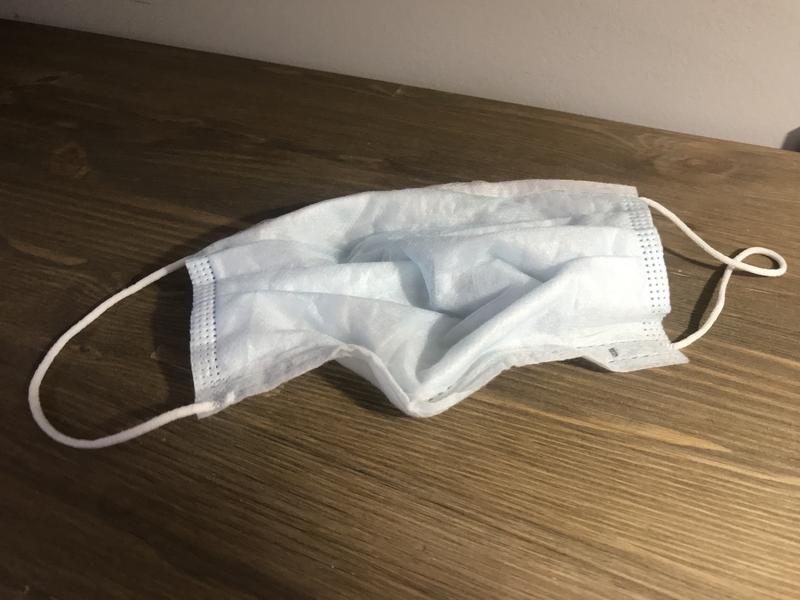medical_mask: (28, 179, 787, 447)
